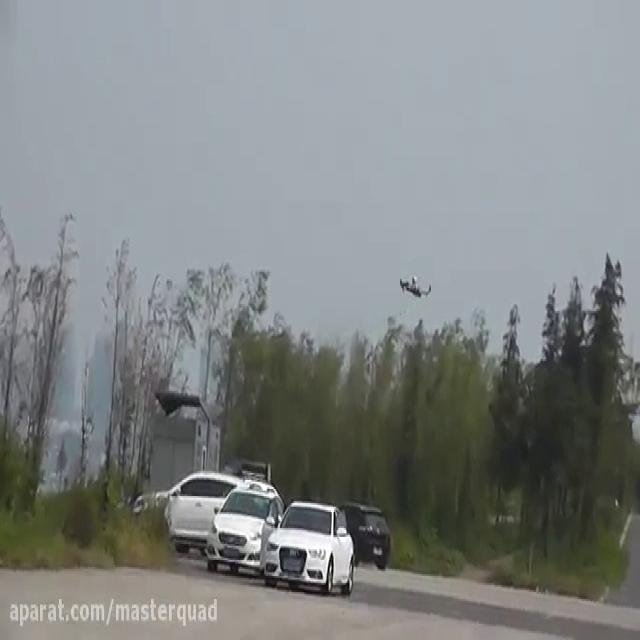drone: (397, 268, 435, 300)
